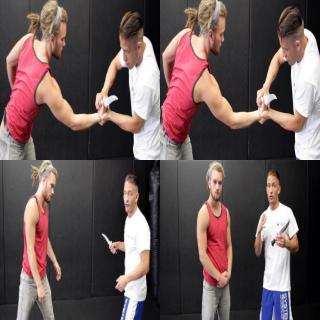knife: (269, 217, 291, 247), (96, 92, 120, 112), (100, 230, 118, 256), (256, 89, 278, 109)
